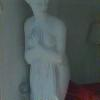Statue: (18, 1, 74, 100)
